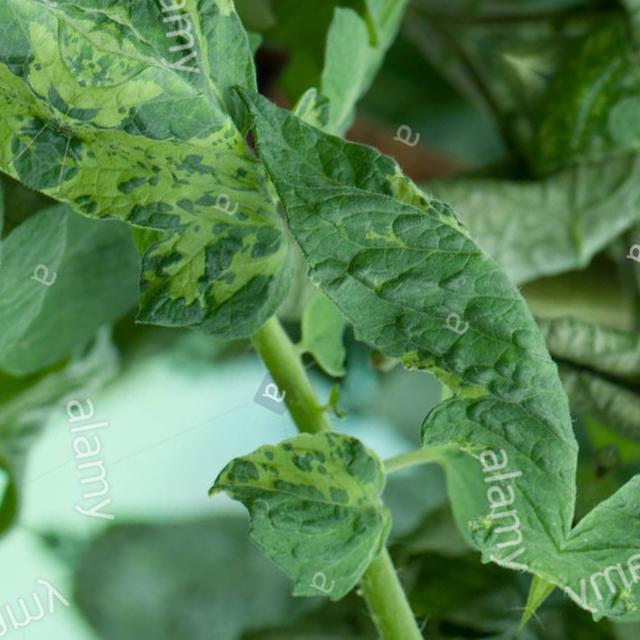Tomato leaf mosaic virus: (116, 57, 640, 589), (12, 0, 455, 371), (172, 352, 429, 610), (0, 115, 106, 478)
